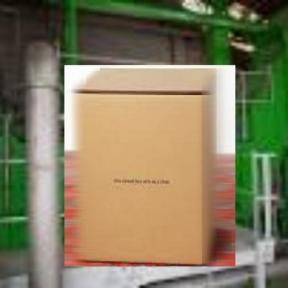box: (62, 62, 238, 270)
